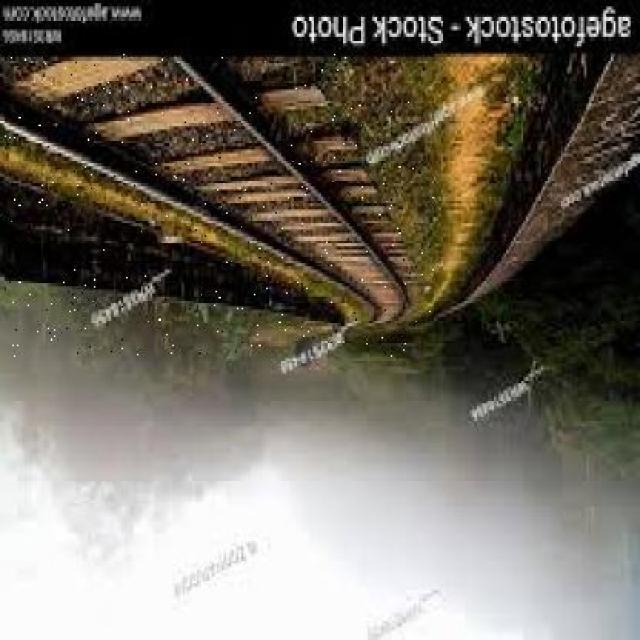rail: (5, 54, 433, 357)
